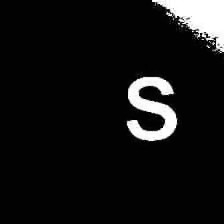LTR_S: (122, 69, 179, 146)
